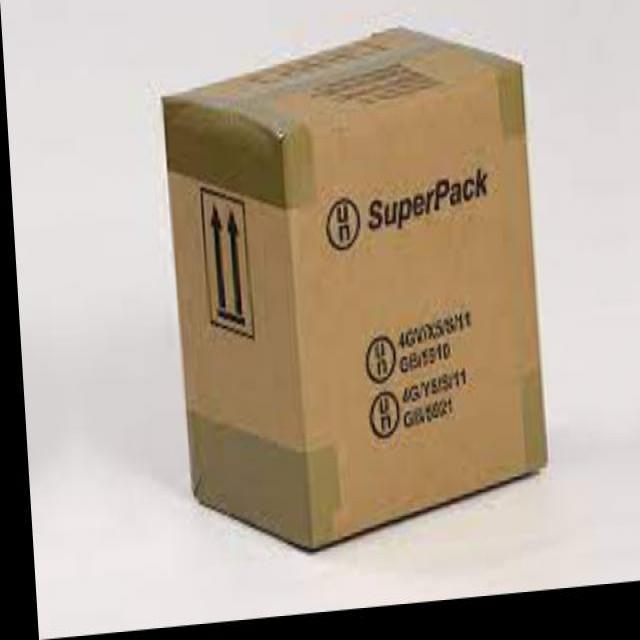box: (167, 21, 553, 555)
